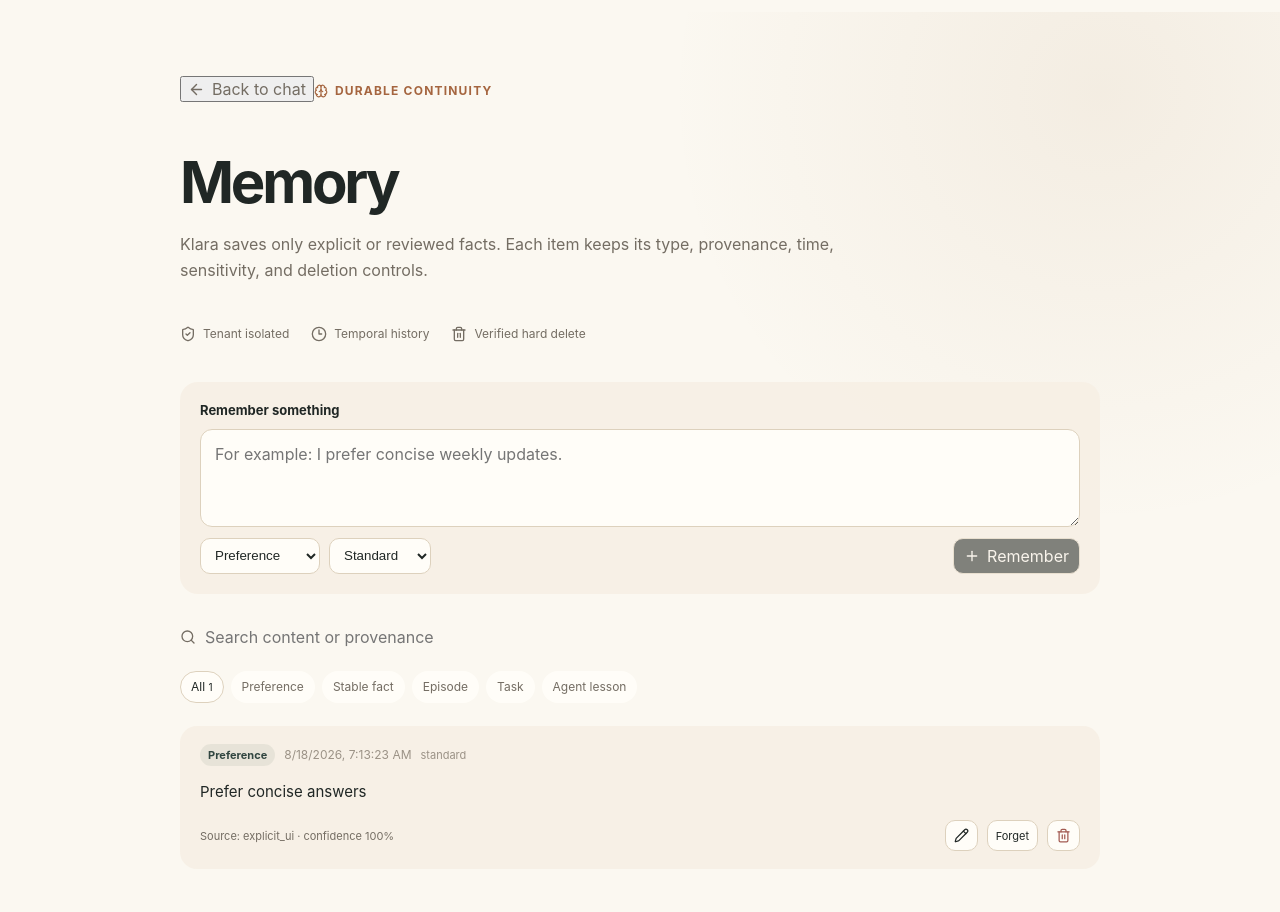
Scenario: supports explicit remember and verified delete
Expected: the text "Prefer concise answers" is shown, x1=200 y1=782 x2=366 y2=801
Type "Use dark mode" into the text box labelled "Remember something". click: (640, 478)
box: x1=200 y1=429 x2=1080 y2=527
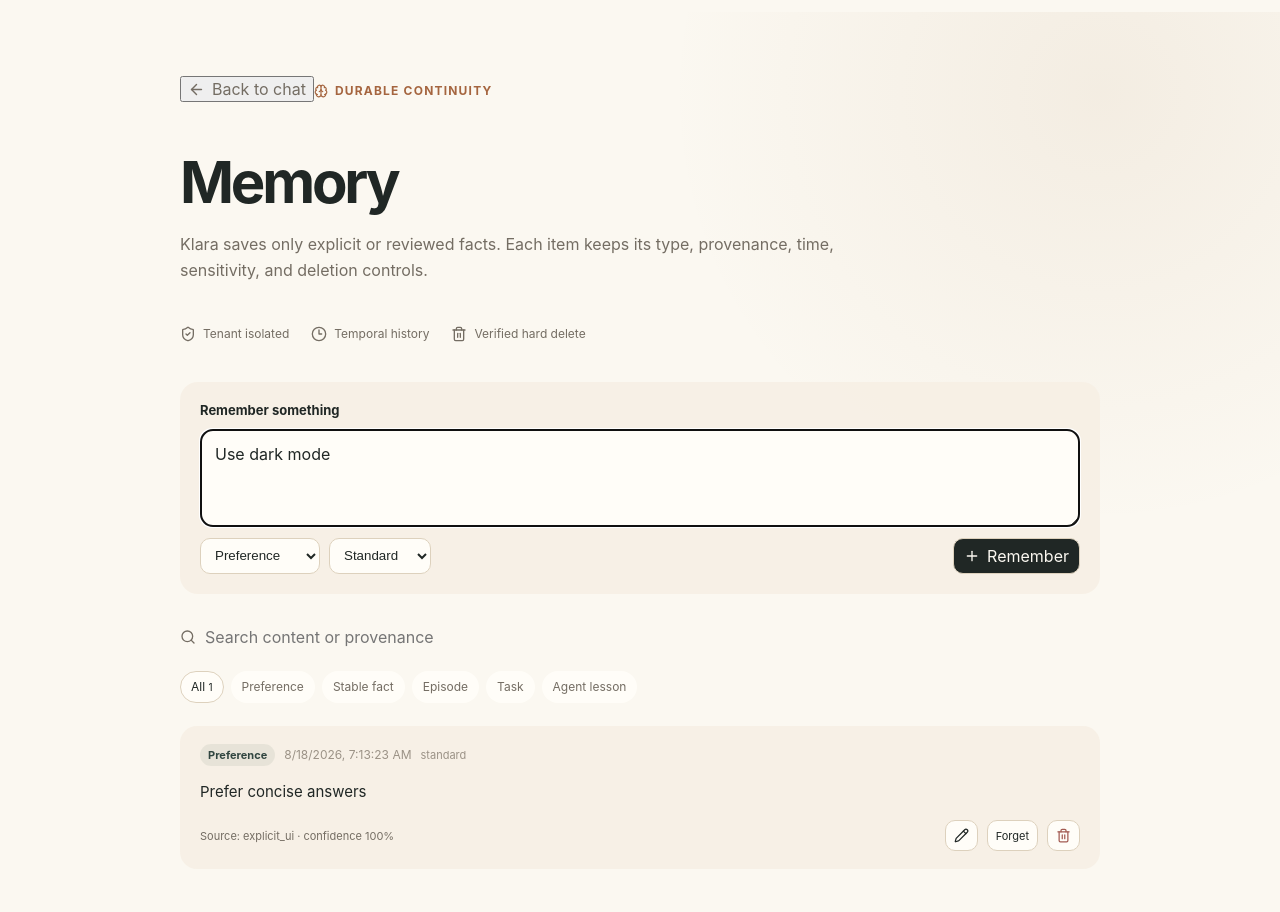
Click the button "Remember". click: click(1017, 556)
box: x1=953 y1=538 x2=1080 y2=574
(page scrolled)
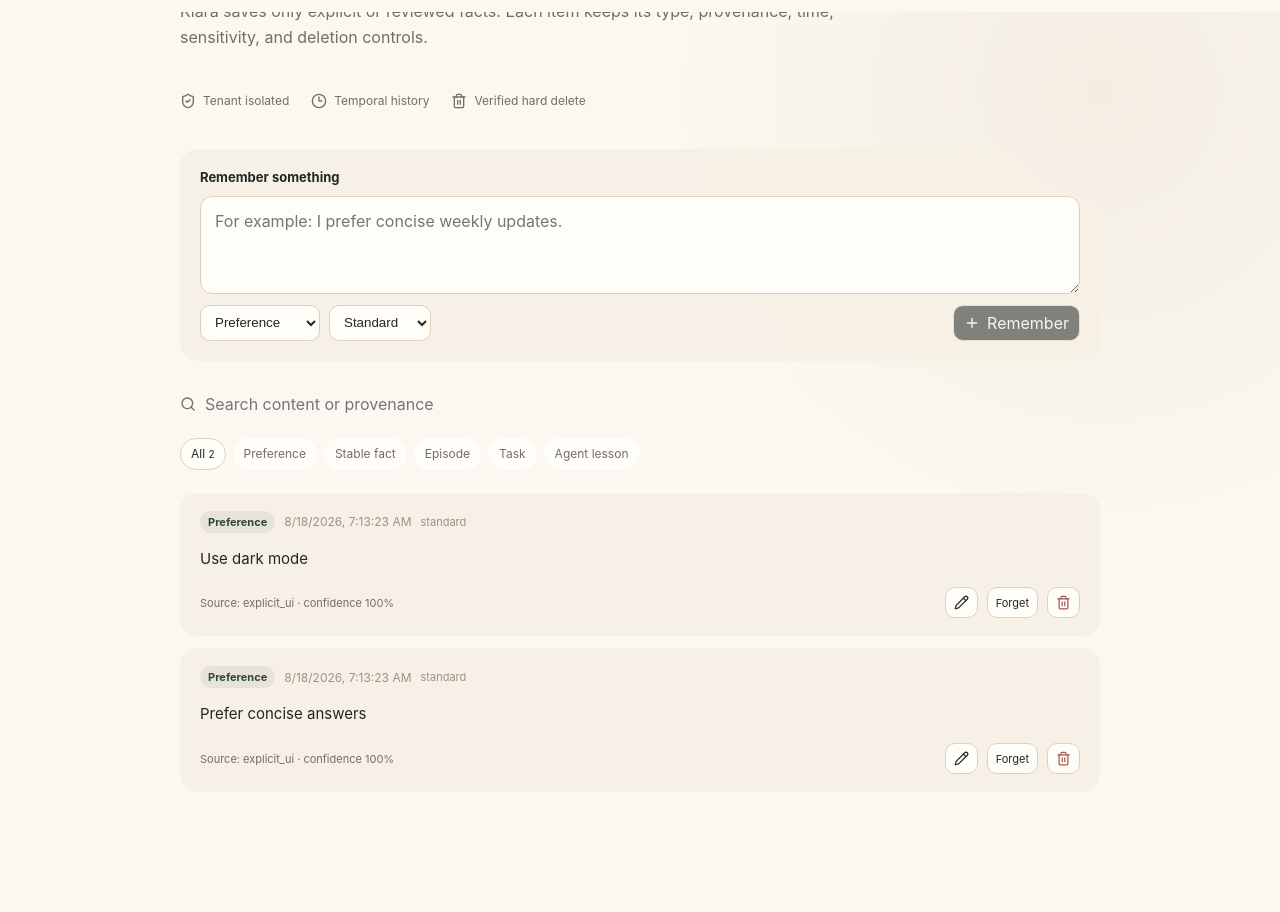
Result: the text "Use dark mode" is shown at x1=200 y1=549 x2=308 y2=568
Click the 2nd button named "Delete memory". click: click(1064, 759)
box: x1=1047 y1=743 x2=1080 y2=774
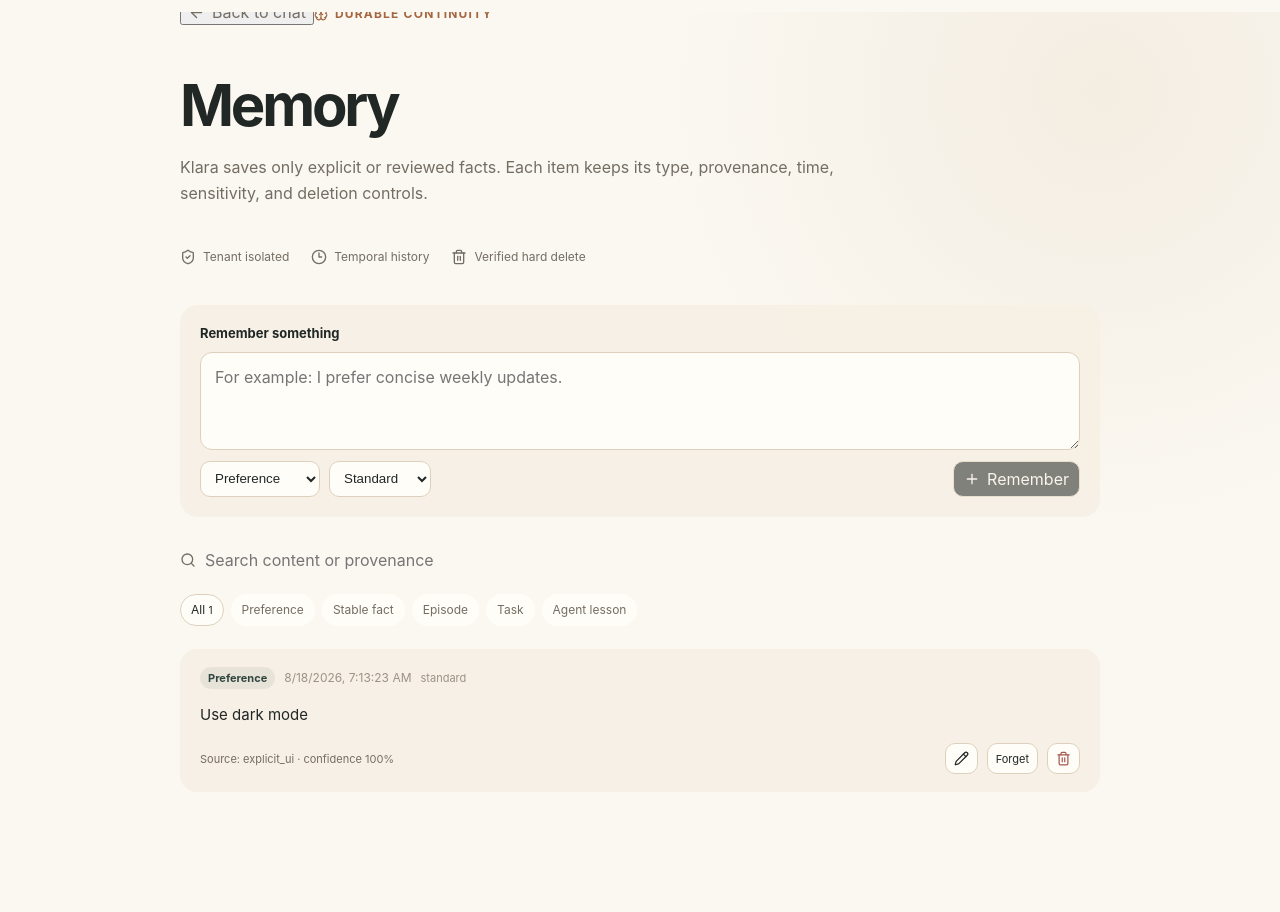
Result: the text "Prefer concise answers" is gone
